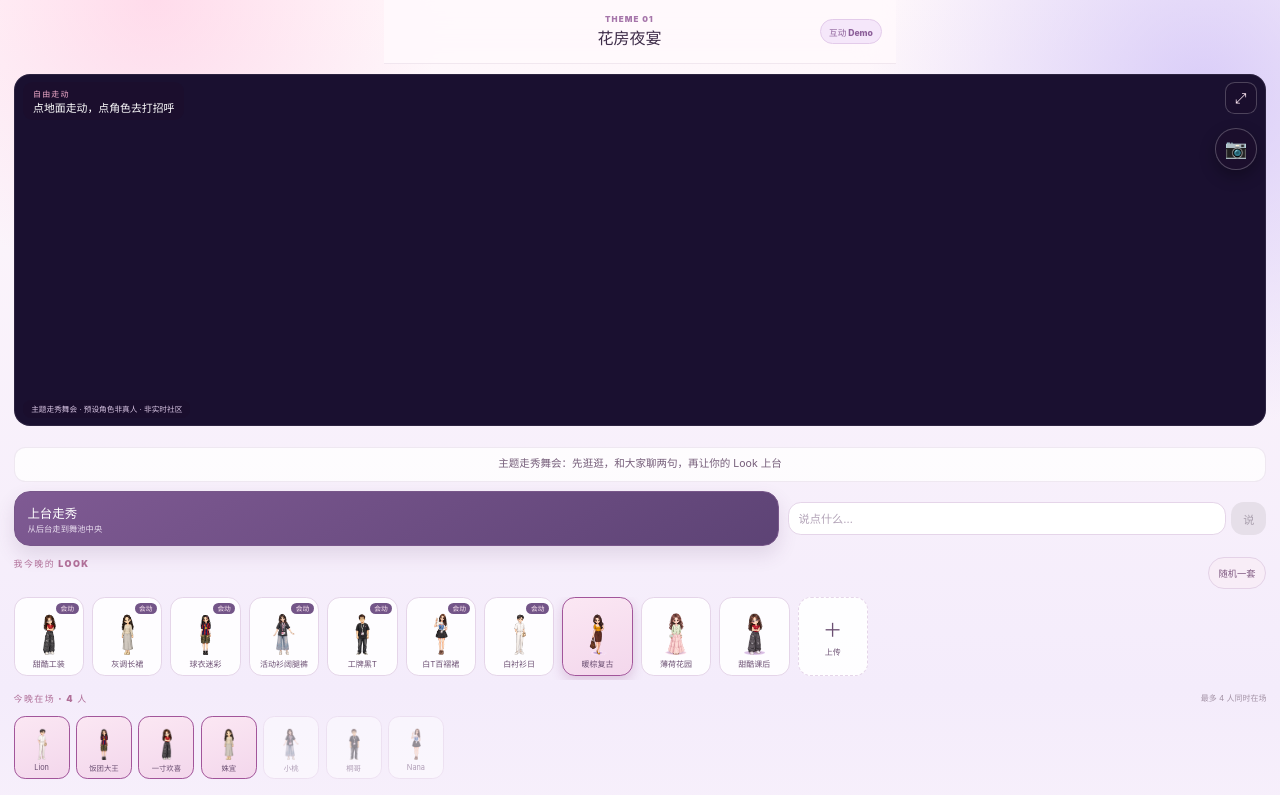
Scenario: CommunityScreen › changes the whole outfit from the rail without leaving the party
Click the button with aria-label "换上薄荷花园". click: (676, 636)
box: [641, 597, 711, 676]
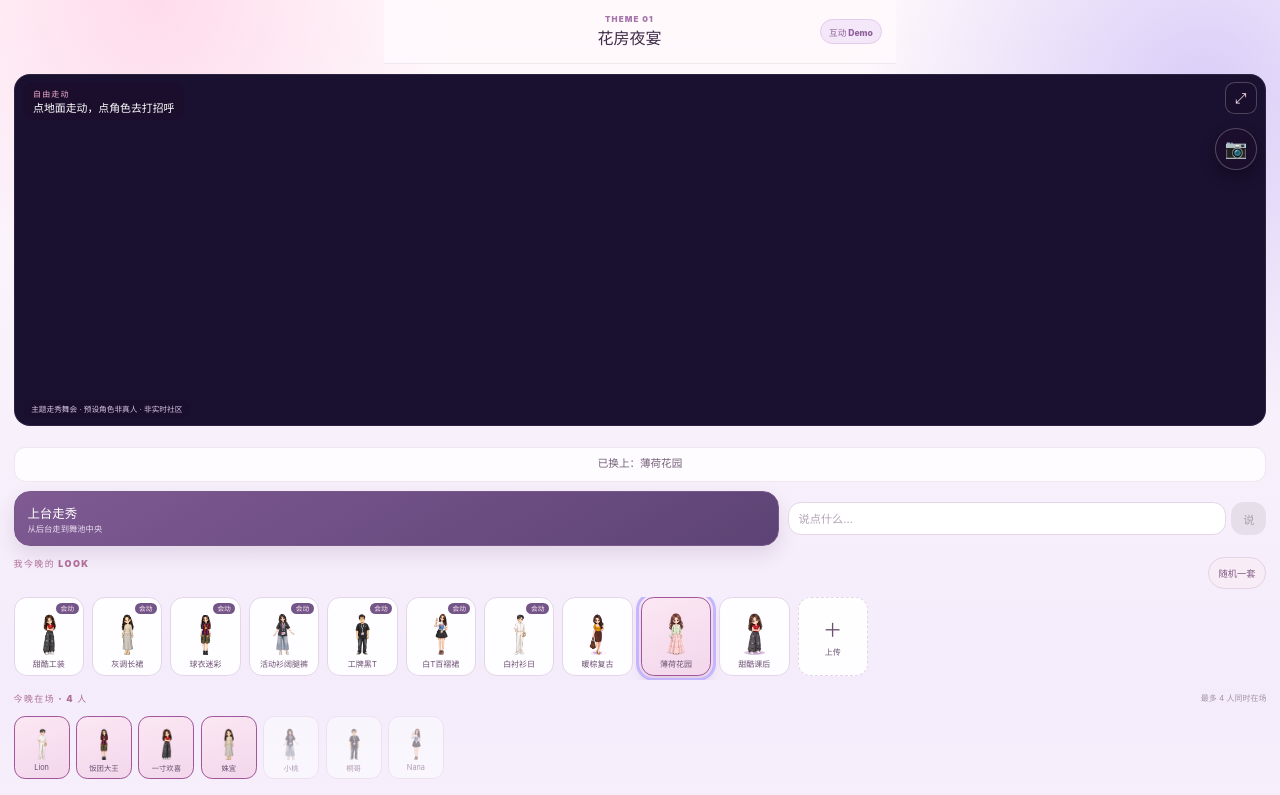
Now the message reads "已换上：薄荷花园", box [598, 456, 682, 470]
